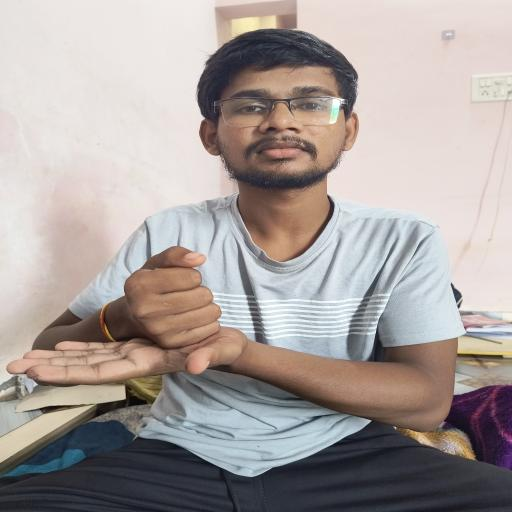Next: (4, 216, 289, 408)
